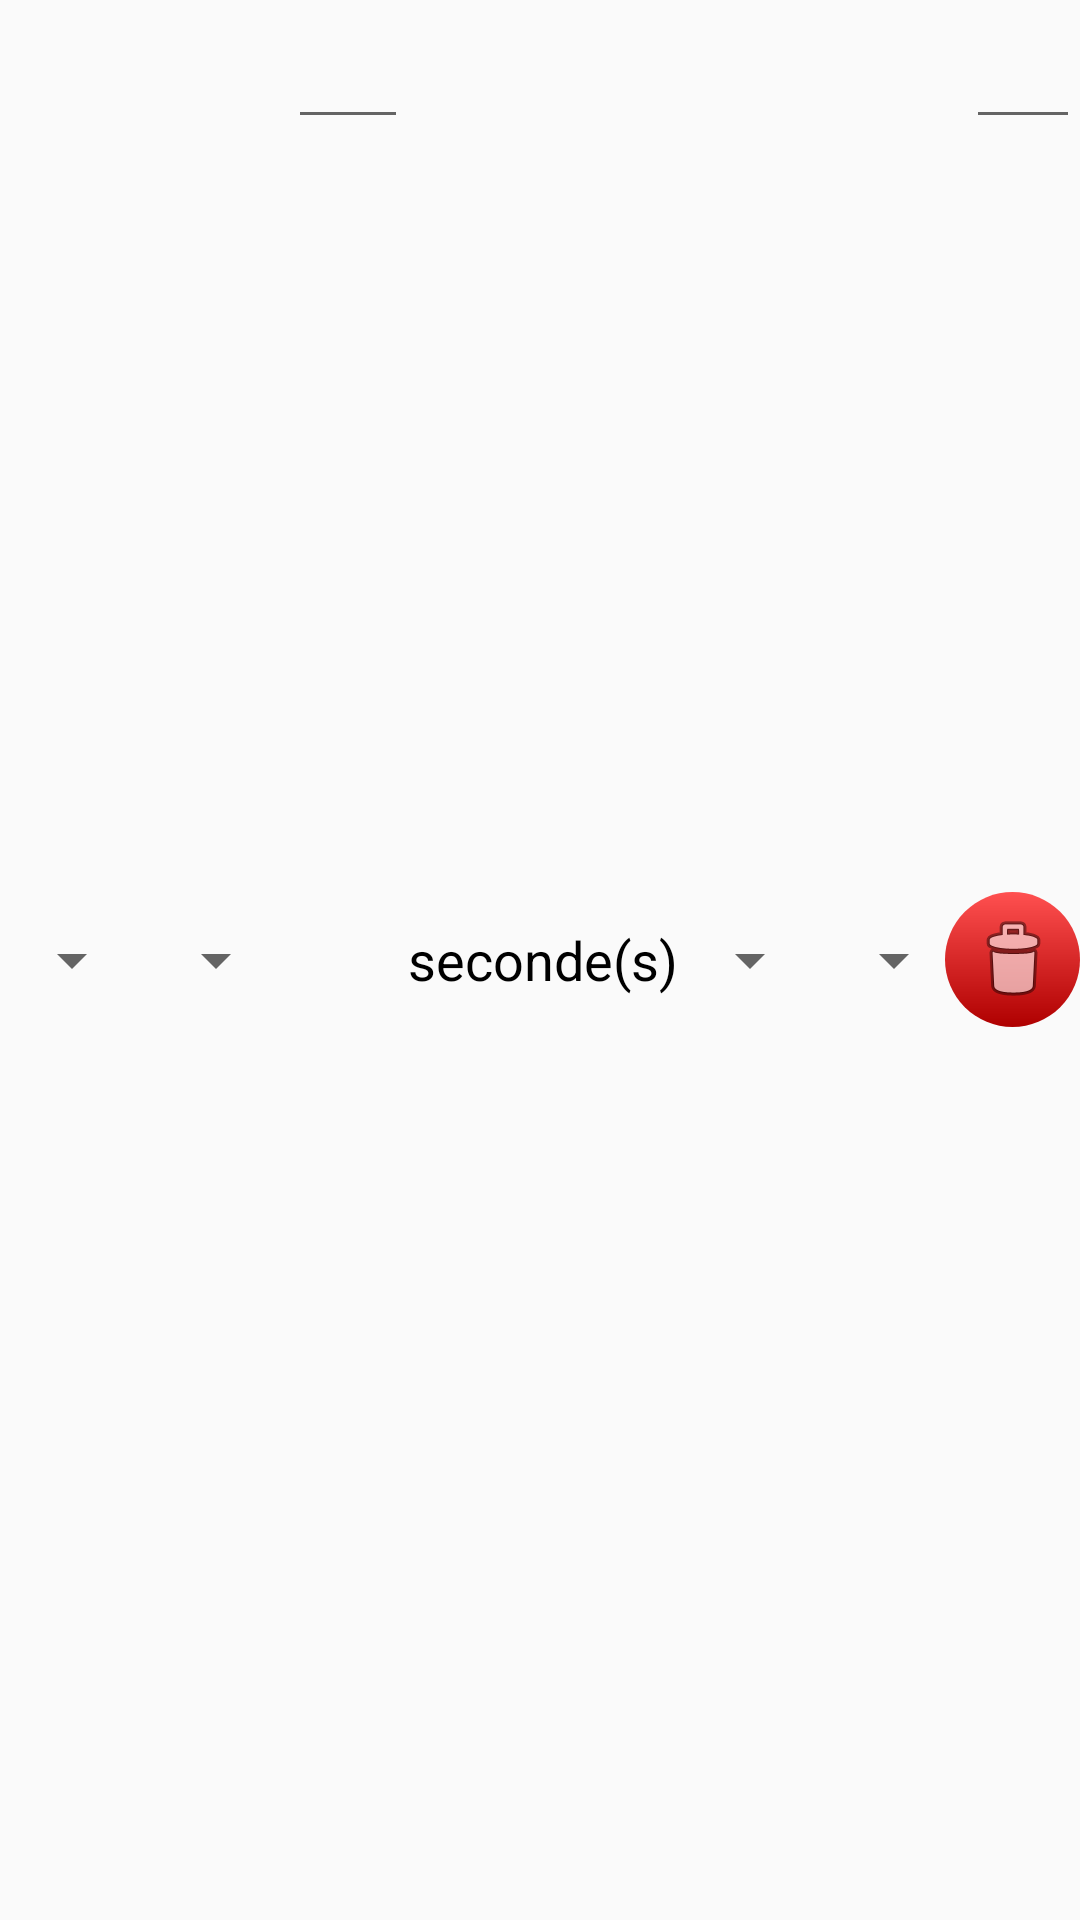

Icon click points for this 1080 × 1920 phone screenshot, format (x=x, y=y):
delete: (x=1012, y=959)
